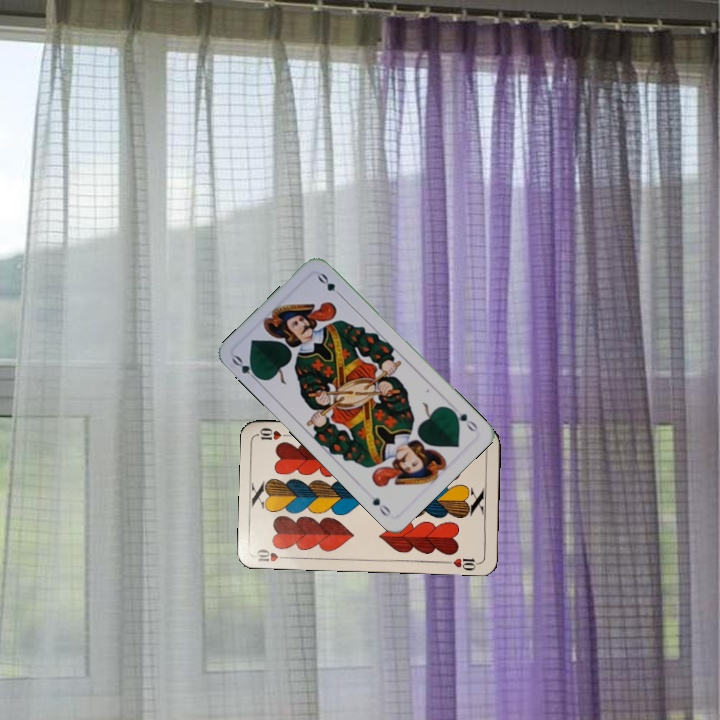GO: (228, 351, 263, 385), (446, 405, 480, 435)
H10: (253, 545, 292, 564)
